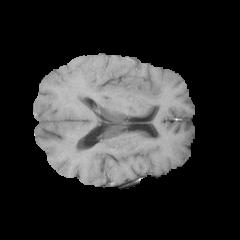glioma: (64, 66, 156, 103)
